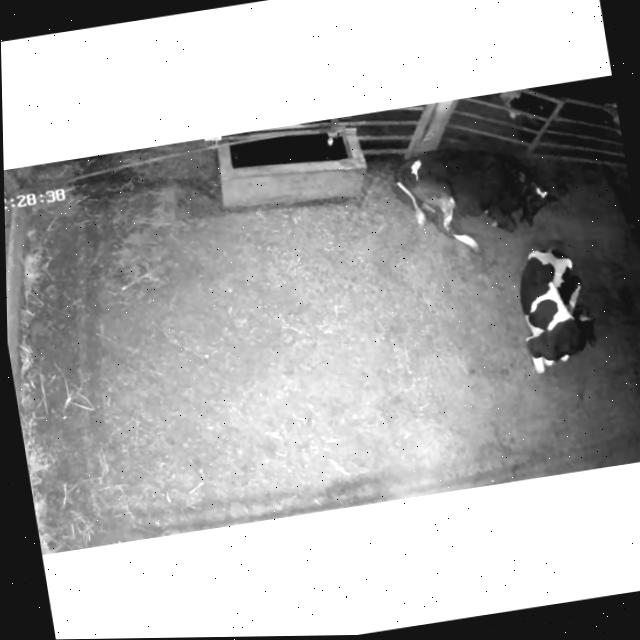lay: (380, 125, 575, 258), (505, 230, 609, 394)
